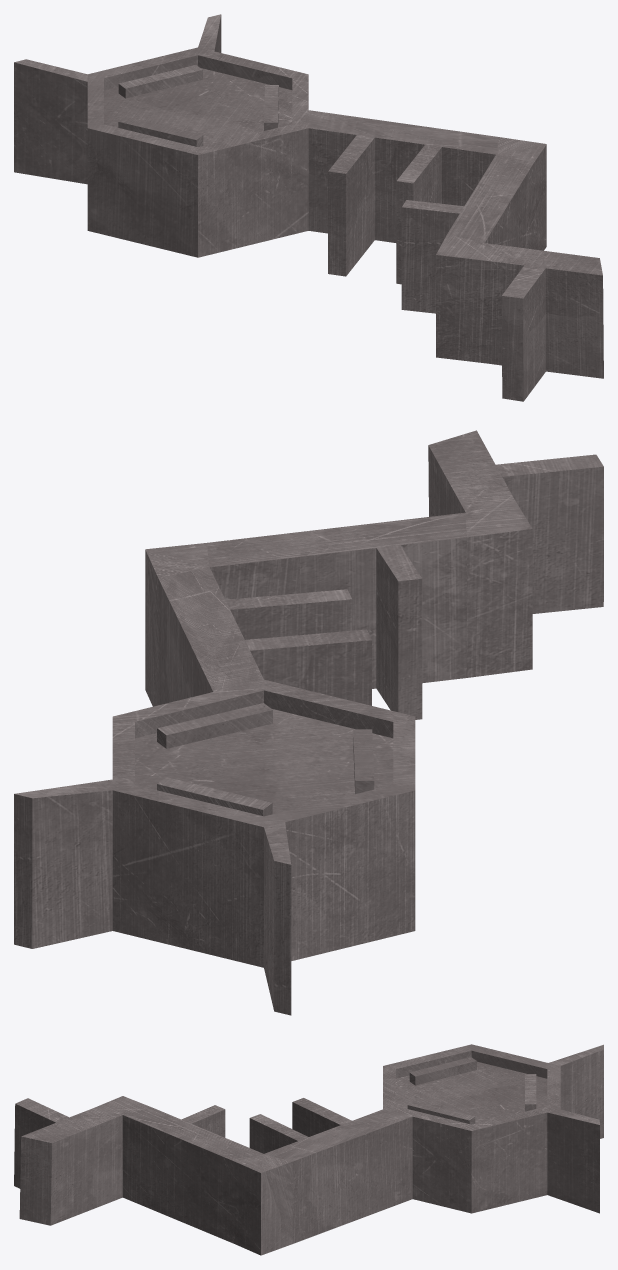
The model's file is key.fbx.
3 renders of one model, top to bottom at view 1: azimuth 30°, elevation 25°; view 2: azimuth 150°, elevation 25°; view 3: azimuth 270°, elevation 25°, orthographic. The views are drawn at different scales.
Visible parts, largest first — view 1: pCube7; view 2: pCube7; view 3: pCube7.
Boxes of the visible parts, <box> form: pCube7: <box>14,14,603,401</box>; pCube7: <box>14,430,603,1015</box>; pCube7: <box>14,1044,603,1255</box>.
Size of the model in its own units: 4.82 by 1.54 by 9.33.
Materials: 1 (1 with a texture image).
